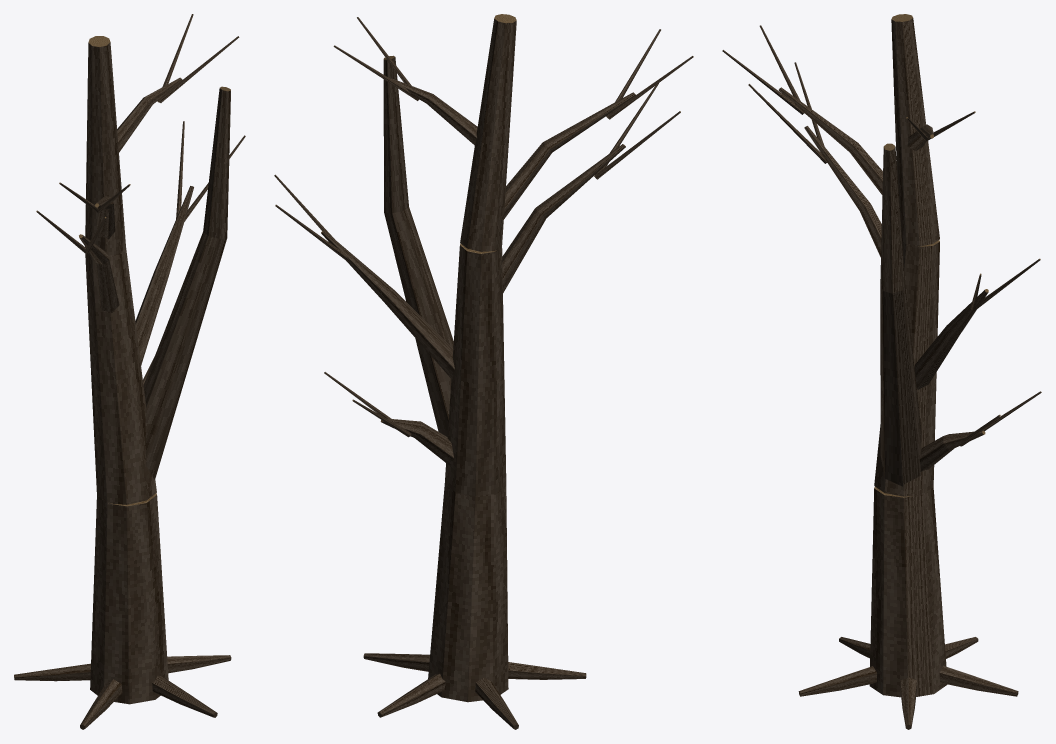
File: env_trees_06_split_trunk.glb
3 renders of one model, left to right at view 1: azimuth 30°, elevation 25°; view 2: azimuth 150°, elevation 25°; view 3: azimuth 270°, elevation 25°, orthographic. The views are drawn at different scales.
Parts seen in each view (by area): view 1: solid; view 2: solid; view 3: solid.
Part boxes in pixels (x1,y1,x2,y2): solid: (14,14,245,729); solid: (274,14,693,729); solid: (722,14,1041,729).
Size of the model in its own units: 2.18 by 4.52 by 2.01.
Materials: 1 (1 with a texture image).
